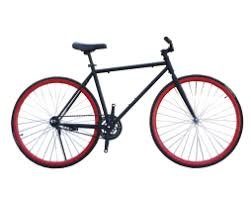bicycle: (3, 33, 246, 174)
